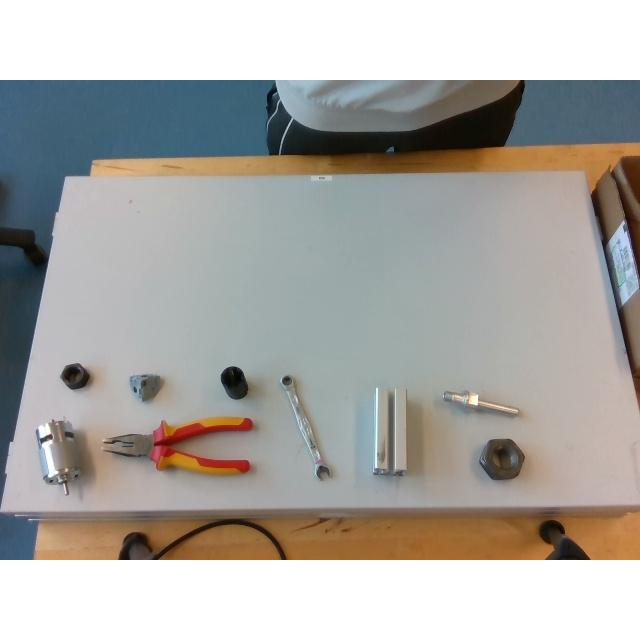M20: (61, 363, 89, 389)
M30: (480, 438, 524, 480)
Motor2: (35, 418, 79, 494)
S40_40_G: (372, 387, 406, 475)
Wrench: (279, 376, 331, 480)
